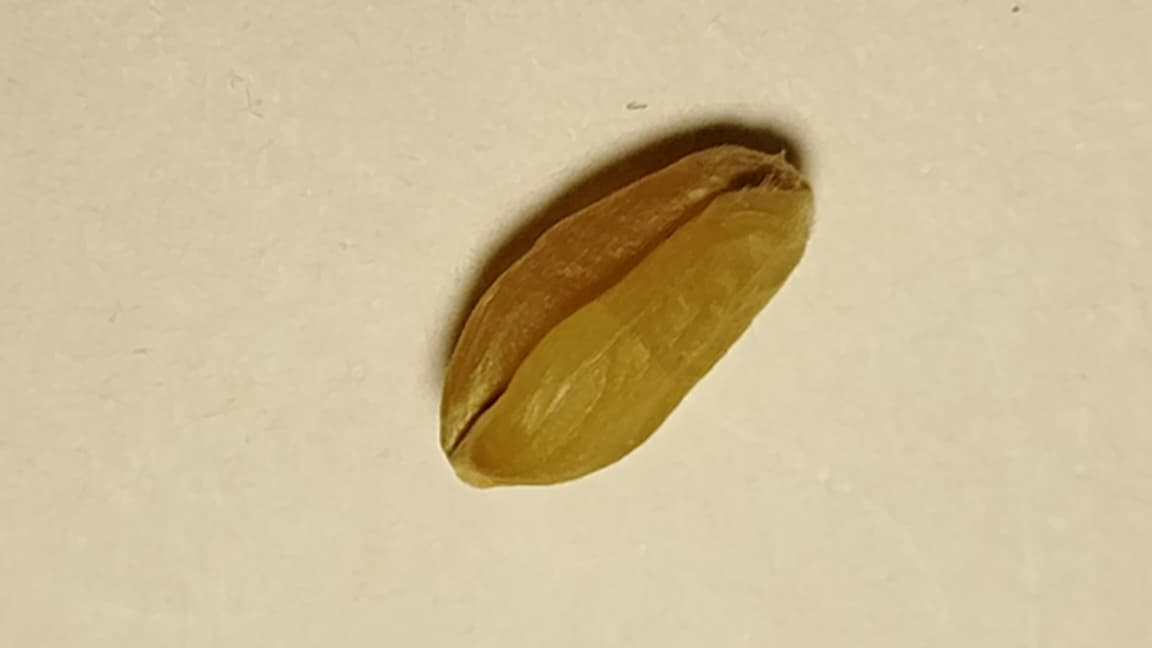healthy: (441, 145, 811, 483)
